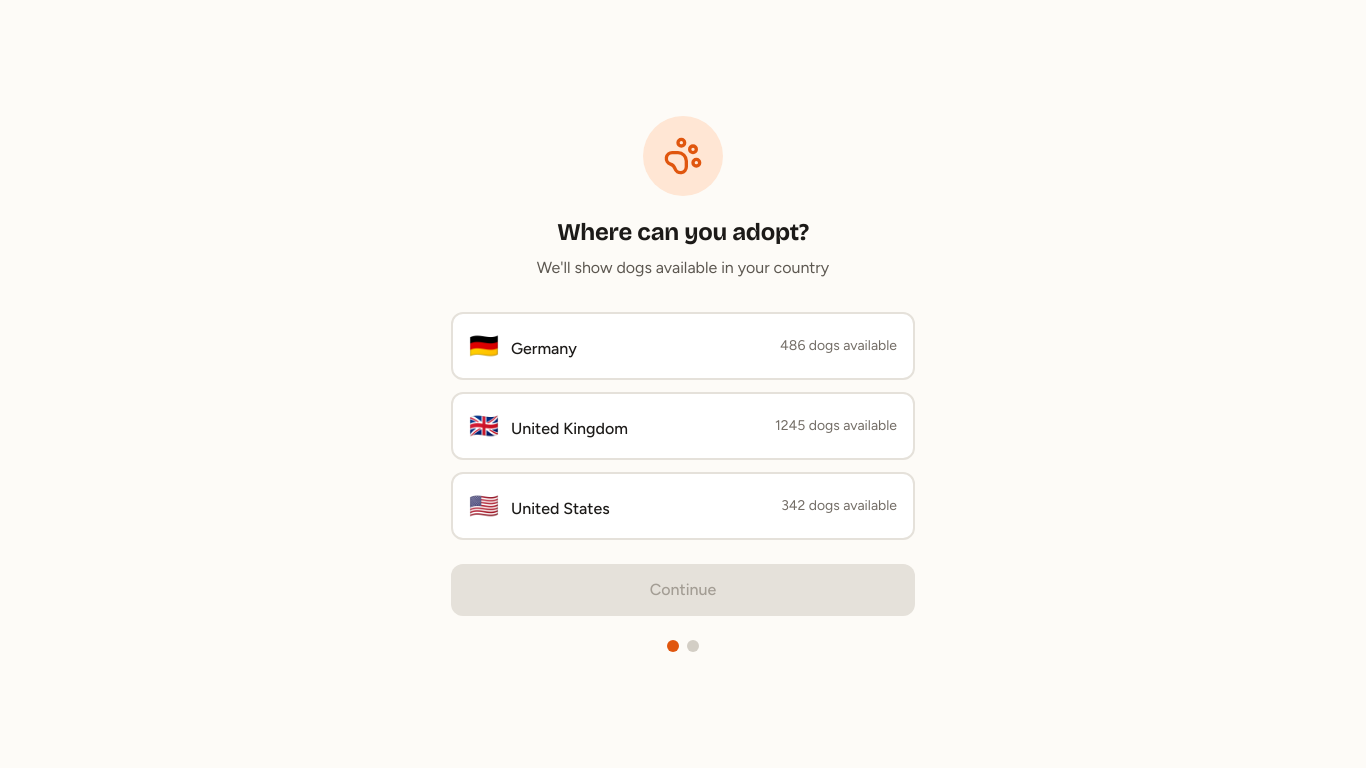
Test case: SwipeOnboarding › Country Selection Step › should require country selection before proceeding
The width and height of the screenshot is (1366, 768).
Expected: the text "Germany" is shown, [511, 339, 577, 358]
Expected: the button "Continue" is disabled, [451, 564, 915, 616]
Click the button "🇩🇪Germany 486 dogs available". click: click(544, 348)
box: [451, 312, 915, 380]
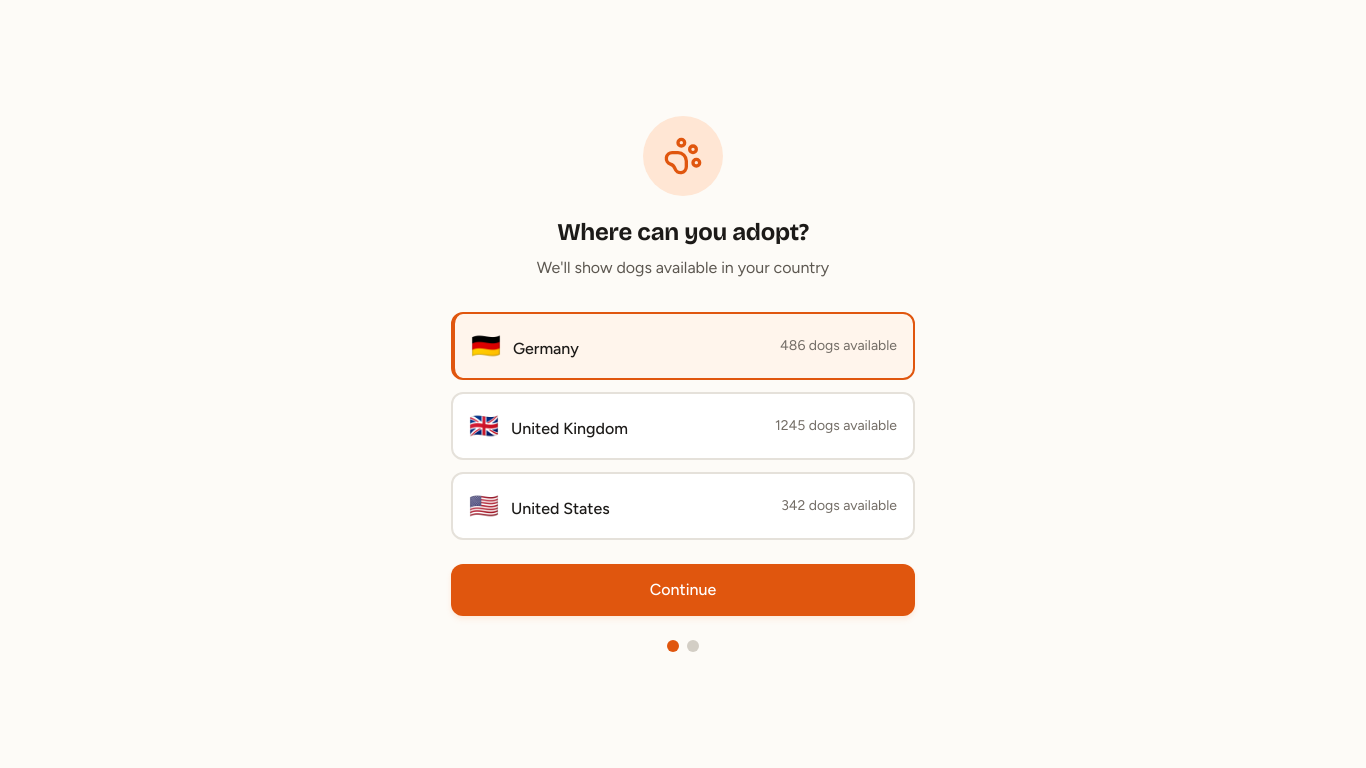
Now the button "Continue" is enabled, box [451, 564, 915, 616]
